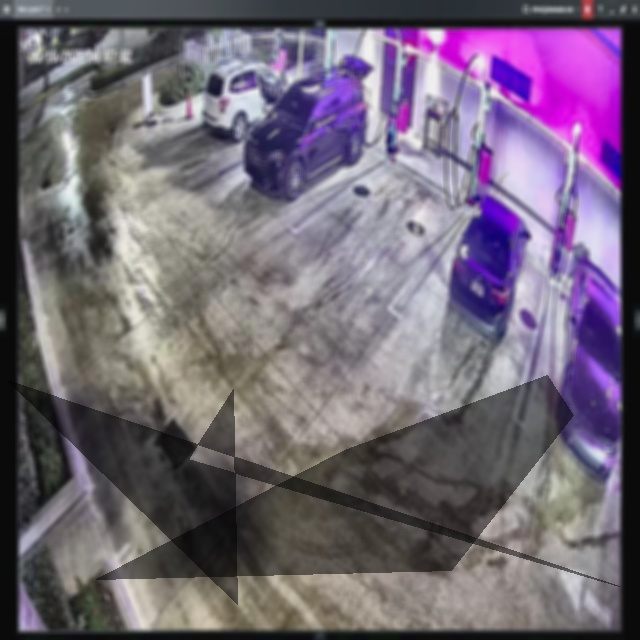Car: (244, 53, 371, 201), (449, 197, 529, 340), (203, 58, 297, 143)
